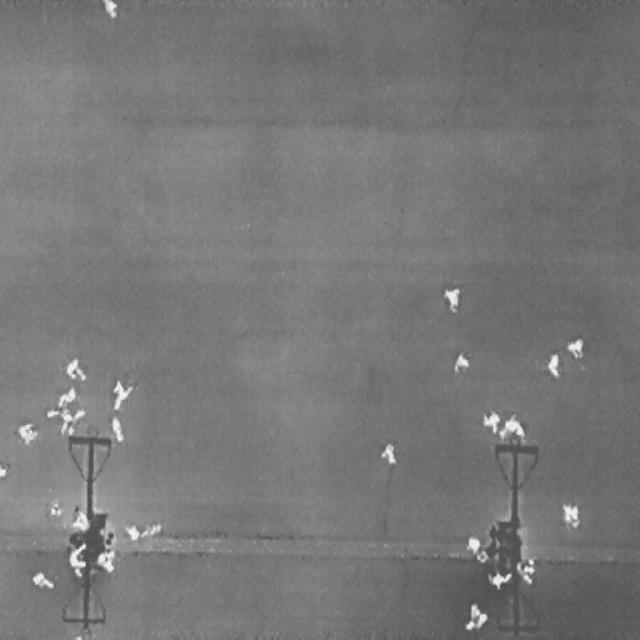Person: (57, 399, 87, 436), (45, 407, 70, 435), (66, 540, 84, 578), (52, 384, 77, 410), (499, 413, 525, 438), (464, 601, 486, 630), (111, 378, 132, 408), (107, 411, 125, 445), (64, 355, 86, 380), (559, 500, 580, 526), (442, 284, 459, 315), (16, 420, 37, 445), (69, 505, 88, 531), (515, 558, 534, 584), (482, 406, 499, 434), (30, 568, 53, 588), (488, 570, 511, 589), (380, 440, 397, 464), (96, 549, 114, 571), (122, 522, 140, 542), (566, 338, 584, 358), (453, 349, 469, 370), (547, 352, 560, 377), (466, 532, 480, 554), (104, 0, 117, 18)
